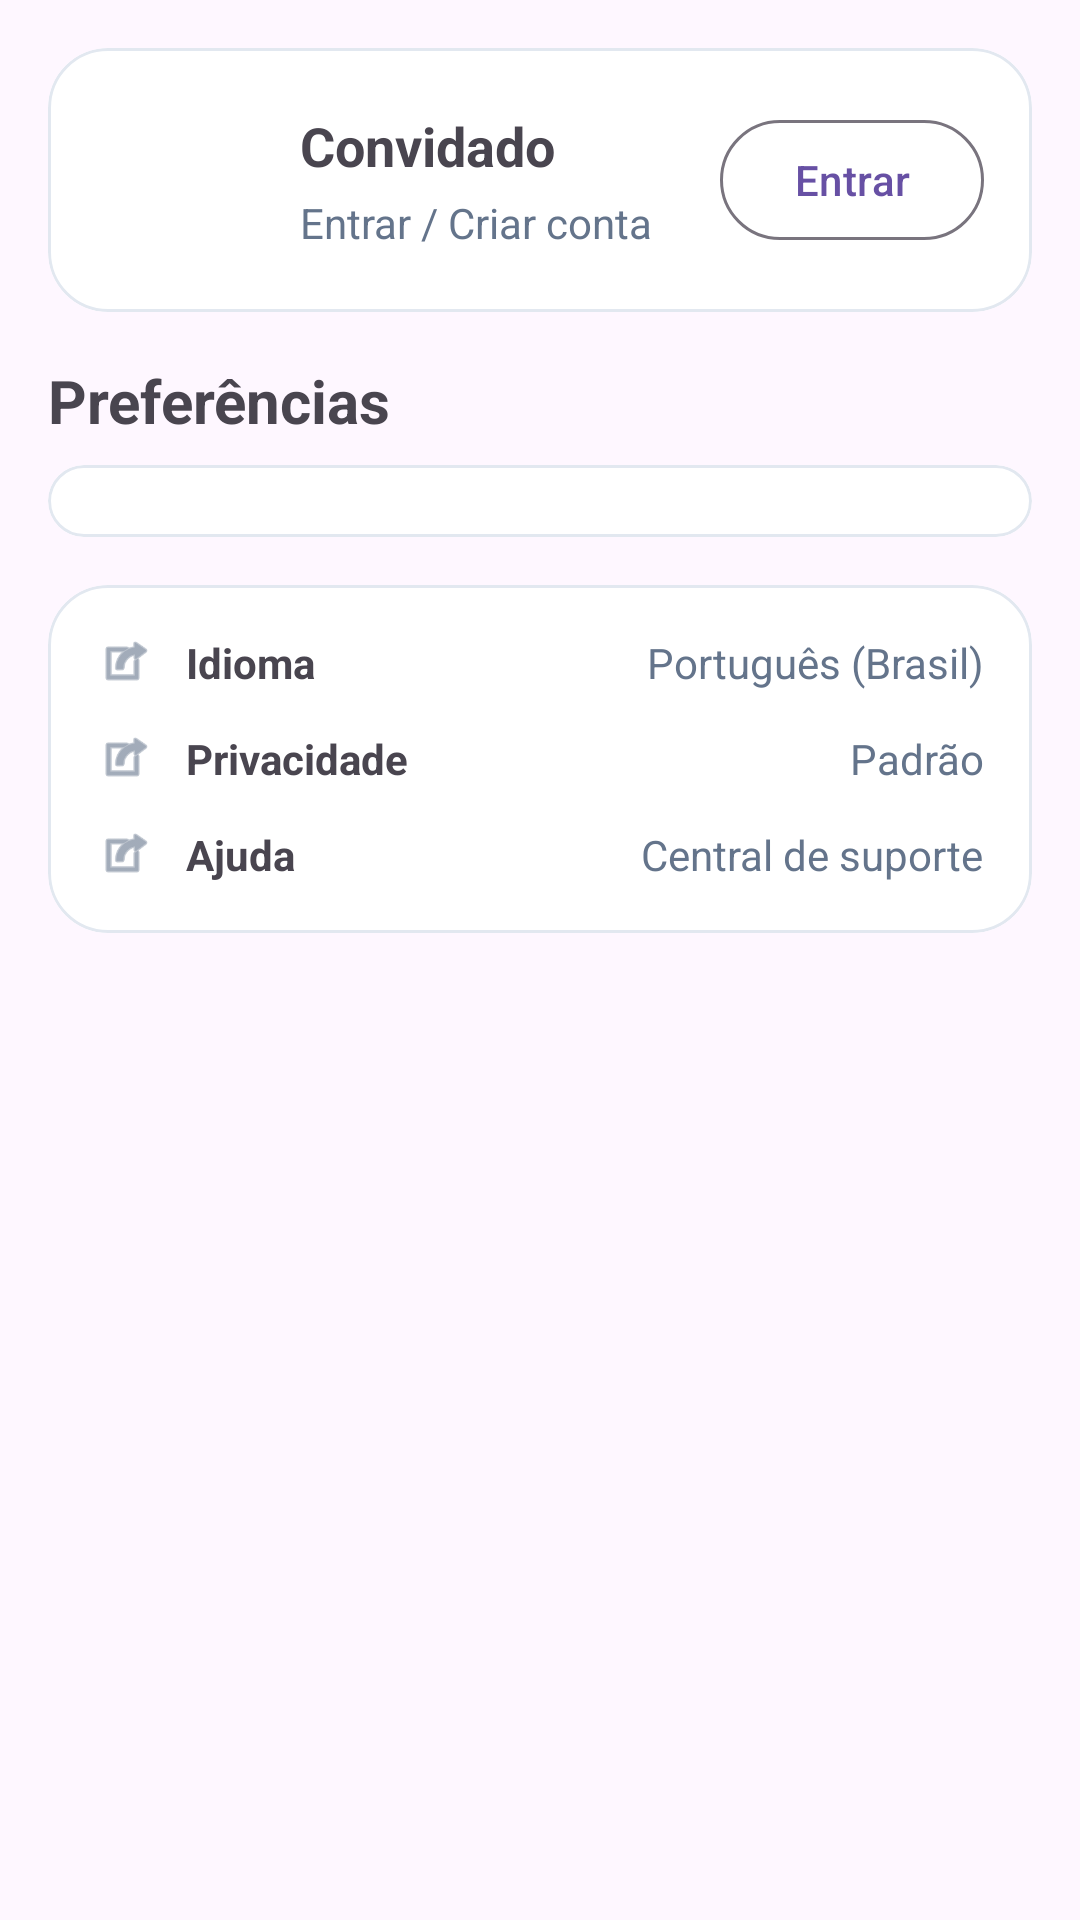

Where to tap for icons on this 1080×1920 app screen, as (x,y):
set as: (126,661), (126,757), (126,853)
